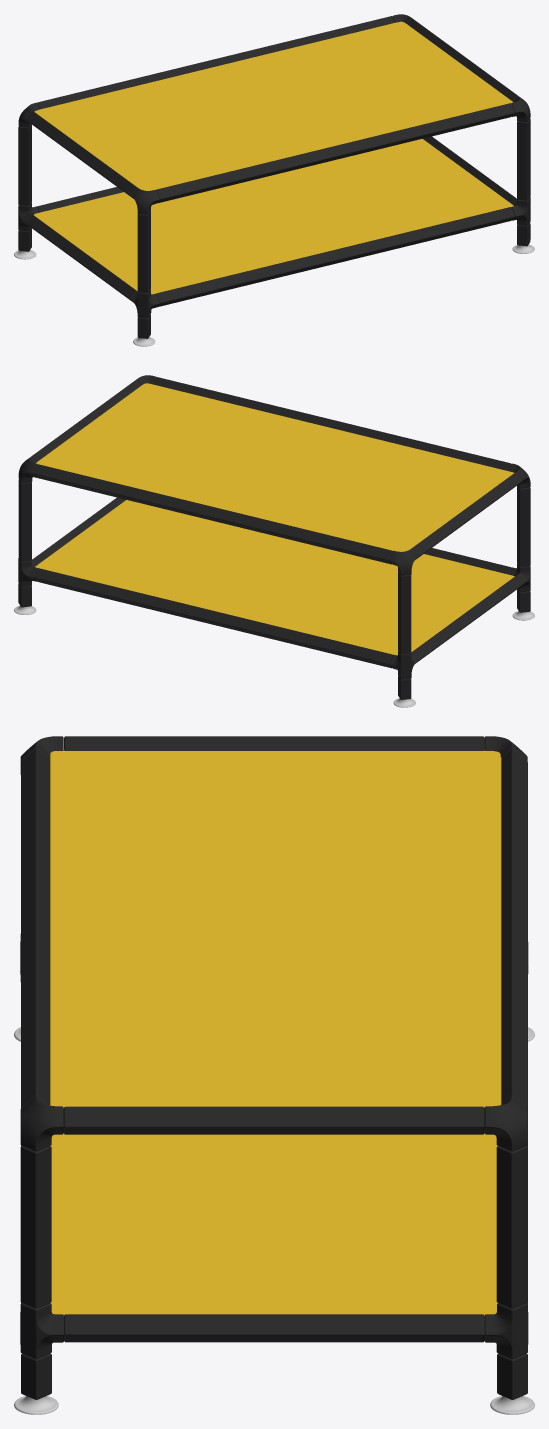
3 renders of one model, top to bottom at view 1: azimuth 30°, elevation 25°; view 2: azimuth 150°, elevation 25°; view 3: azimuth 270°, elevation 25°, orthographic. The views are drawn at different scales.
Visible parts, largest first — view 1: 729x374x154; view 2: 729x374x154; view 3: 729x374x154.
Part boxes in pixels (bbox=[...]): 729x374x154: bbox=[14, 14, 534, 346]; 729x374x154: bbox=[14, 375, 534, 707]; 729x374x154: bbox=[14, 736, 534, 1414].
Size of the model in its own units: 0.8189 by 0.2933 by 0.4632.
